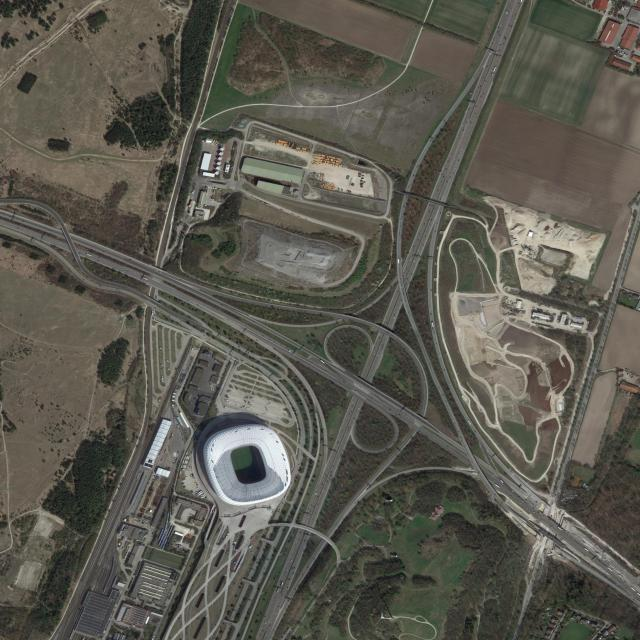large-vehicle: (607, 567, 613, 571), (618, 574, 623, 578), (584, 548, 589, 552), (468, 420, 472, 425), (320, 360, 325, 364), (495, 484, 500, 488), (631, 587, 636, 591), (87, 254, 93, 257), (521, 500, 525, 503), (558, 527, 562, 530), (500, 480, 504, 483), (493, 67, 496, 71), (281, 582, 284, 586), (432, 322, 434, 327), (398, 259, 400, 264), (160, 347, 163, 350), (572, 533, 575, 536), (356, 390, 359, 393), (277, 589, 280, 592), (506, 12, 509, 14), (315, 493, 317, 495)
small-vehicle: (143, 277, 148, 280), (505, 37, 507, 40), (161, 379, 164, 381), (490, 52, 492, 55), (492, 73, 494, 76), (454, 167, 456, 170), (413, 260, 415, 263), (289, 350, 292, 352), (268, 620, 270, 623), (419, 431, 421, 433), (471, 105, 473, 107), (126, 268, 128, 270), (512, 490, 514, 492), (426, 435, 428, 437), (395, 414, 397, 416), (154, 307, 156, 309), (168, 368, 170, 370), (167, 360, 169, 362), (161, 364, 163, 366), (86, 252, 88, 254), (418, 249, 420, 251), (452, 420, 454, 422), (358, 407, 360, 409), (331, 476, 333, 478), (533, 511, 535, 513), (538, 517, 540, 519), (352, 402, 354, 404), (404, 276, 406, 278), (401, 286, 403, 288), (409, 259, 411, 261), (264, 622, 266, 624), (162, 376, 164, 378), (161, 378, 164, 379), (394, 317, 396, 318), (500, 25, 502, 26), (443, 395, 445, 396), (446, 400, 447, 402), (295, 545, 296, 547), (462, 125, 463, 127), (400, 272, 401, 274), (386, 335, 387, 337), (378, 354, 379, 356), (511, 26, 512, 27), (435, 231, 436, 232), (499, 50, 500, 51), (352, 406, 353, 407), (169, 316, 170, 317)
